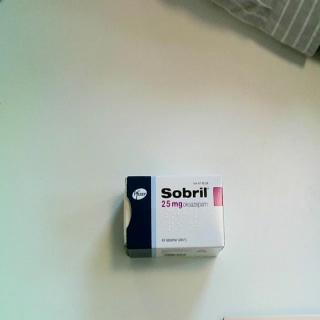sobril25mg: (122, 172, 228, 262)
